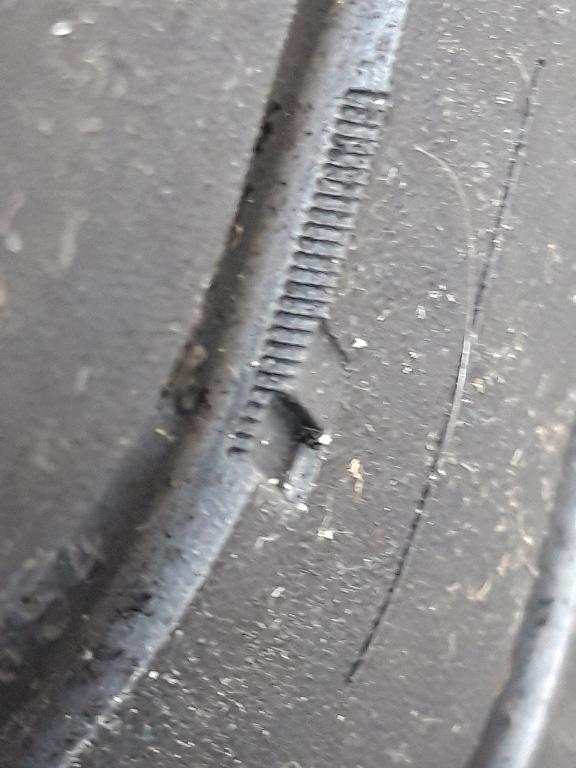temoin:25: (211, 302, 365, 520)
